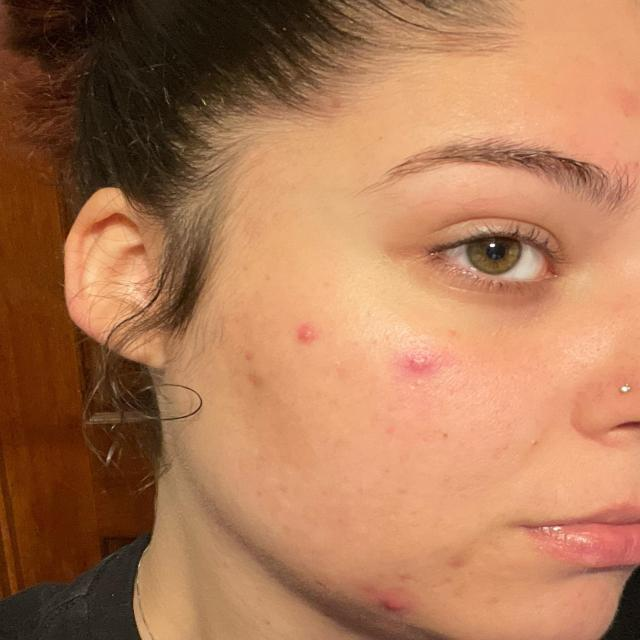acne: (225, 265, 474, 401), (334, 545, 484, 625)
